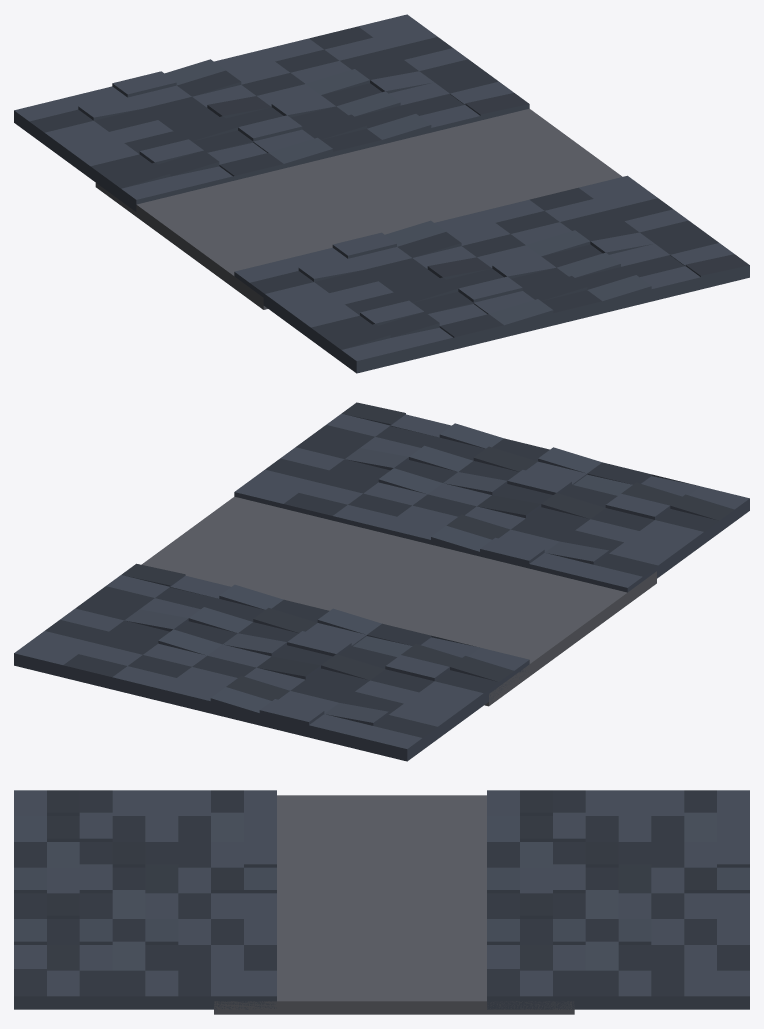
Rendered from roadBerlin2.fbx.
3 views of the same model, one above another, from view 1: azimuth 30°, elevation 25°; view 2: azimuth 150°, elevation 25°; view 3: azimuth 270°, elevation 25° (orthographic). The views are drawn at different scales.
Parts seen in each view (by area): view 1: Cube.014, Cube.012, Cube.013; view 2: Cube.012, Cube.014, Cube.013; view 3: Cube.012, Cube.014, Cube.013.
Part boxes in pixels (box(x1,y1,x2,y2)): Cube.014: box(234, 175, 749, 373); Cube.012: box(14, 14, 529, 211); Cube.013: box(95, 108, 622, 309); Cube.012: box(14, 563, 529, 761); Cube.014: box(234, 402, 749, 592); Cube.013: box(141, 496, 656, 706); Cube.012: box(487, 790, 749, 1009); Cube.014: box(14, 790, 276, 1009); Cube.013: box(214, 795, 574, 1014).
Bounding box in the file's own units: 400 × 19.55 × 604.
